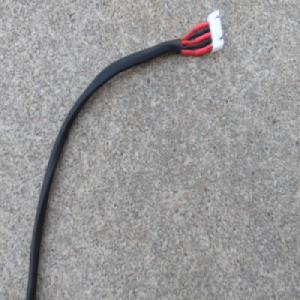Wire: (26, 8, 226, 300)
